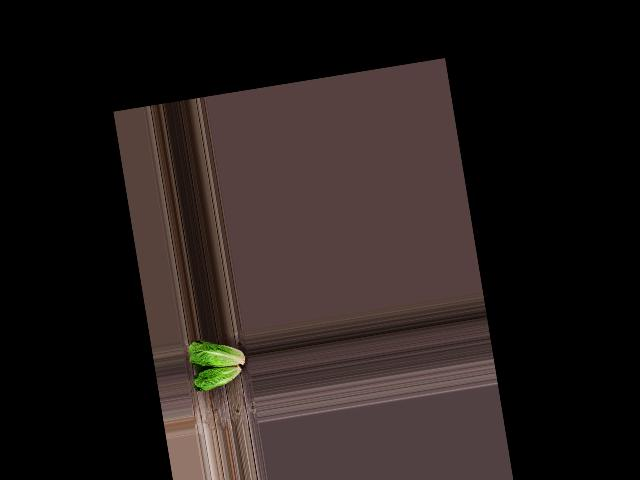lettuce: (184, 332, 248, 373)
